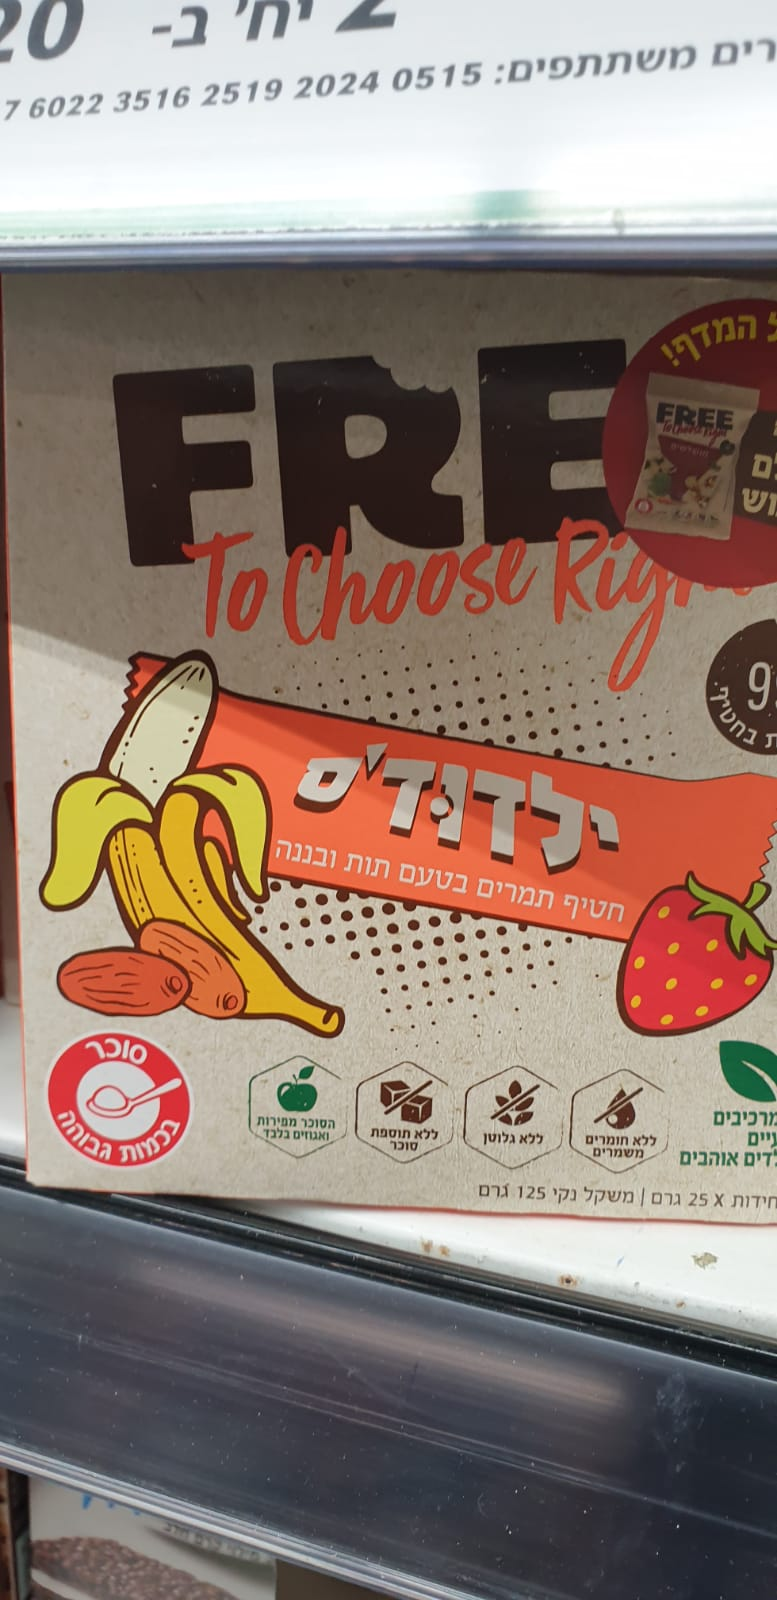sugar: (45, 1033, 192, 1168)
